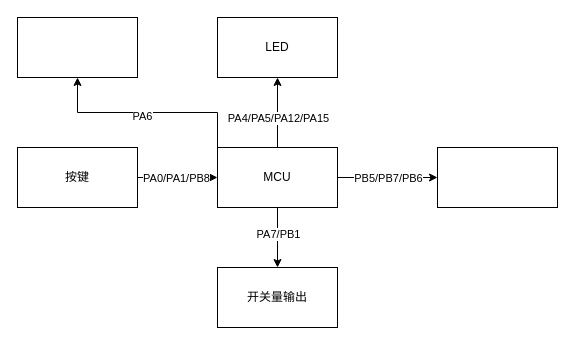
This 575x345 diagram has some shape labels left out. The shapes that lost their labels are listed below. From the top down, each one's box as (x1, y1, x2, y2) in pixels, then its label:
(16, 16, 138, 78): ADC
(436, 146, 558, 208): 断码屏
